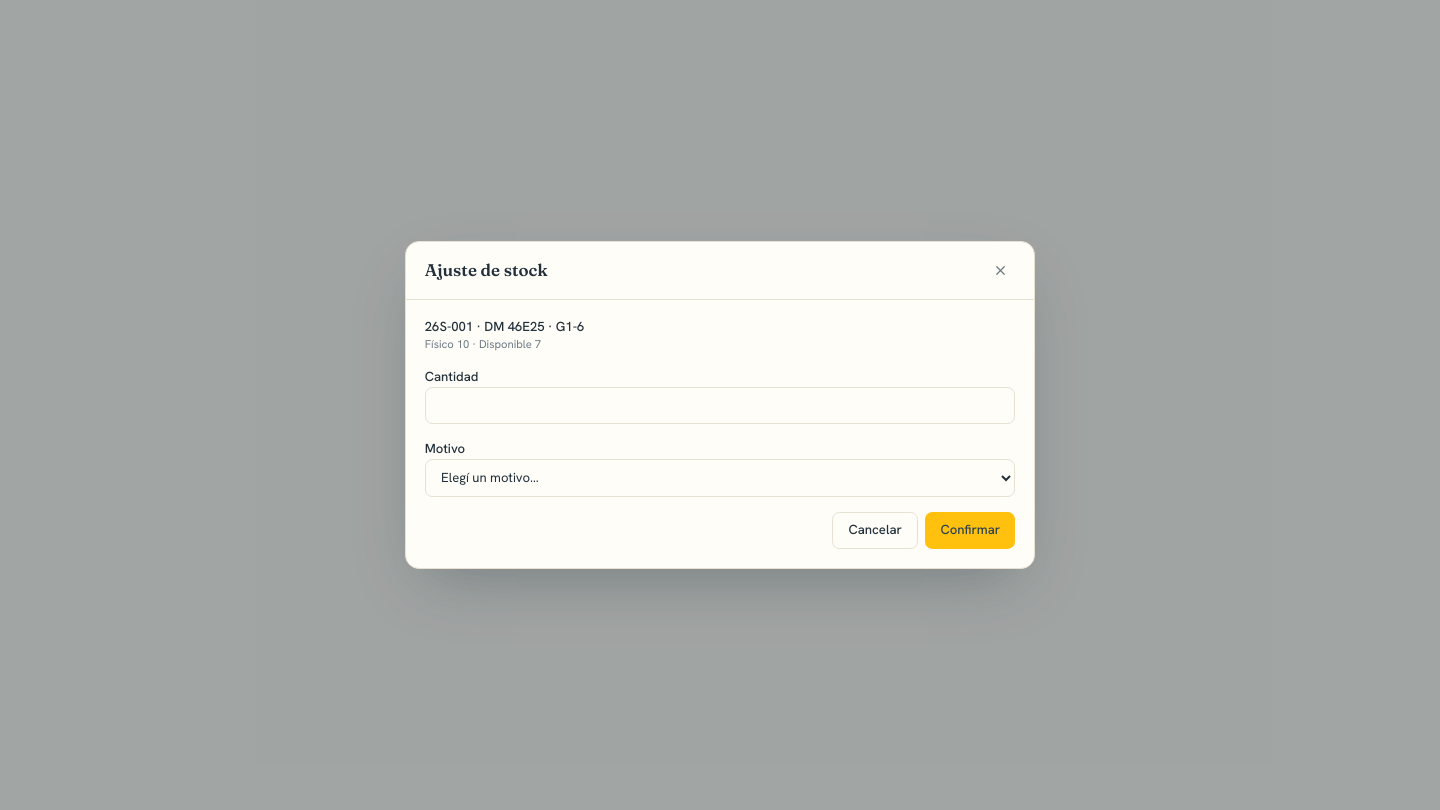
MovimientoDialog › el ajuste exige elegir un motivo de la lista cerrada
In the number field labelled "Cantidad": point(720, 406) [425, 387, 1015, 424], type "-2"
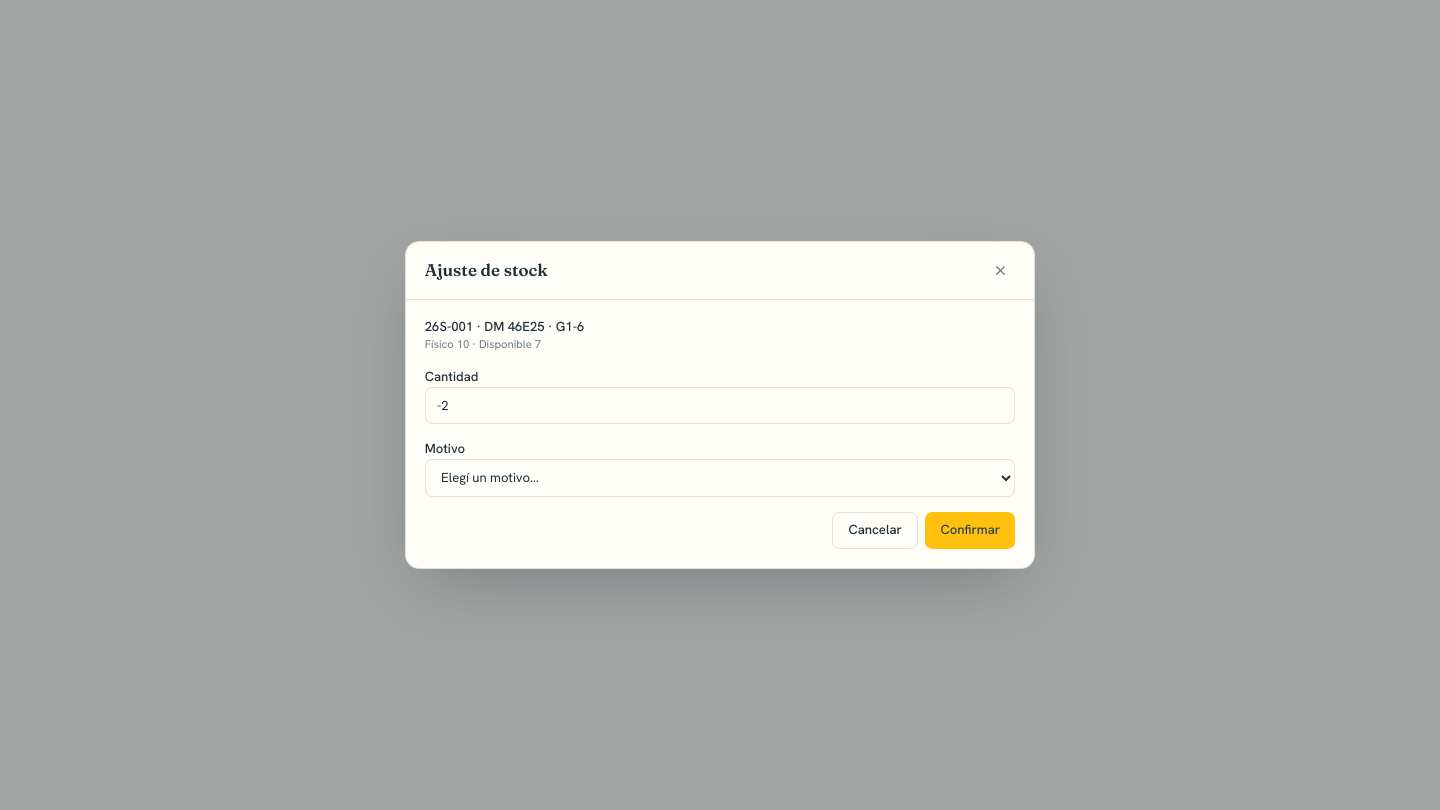
Click the button "Confirmar": point(970, 530) [926, 512, 1015, 549]
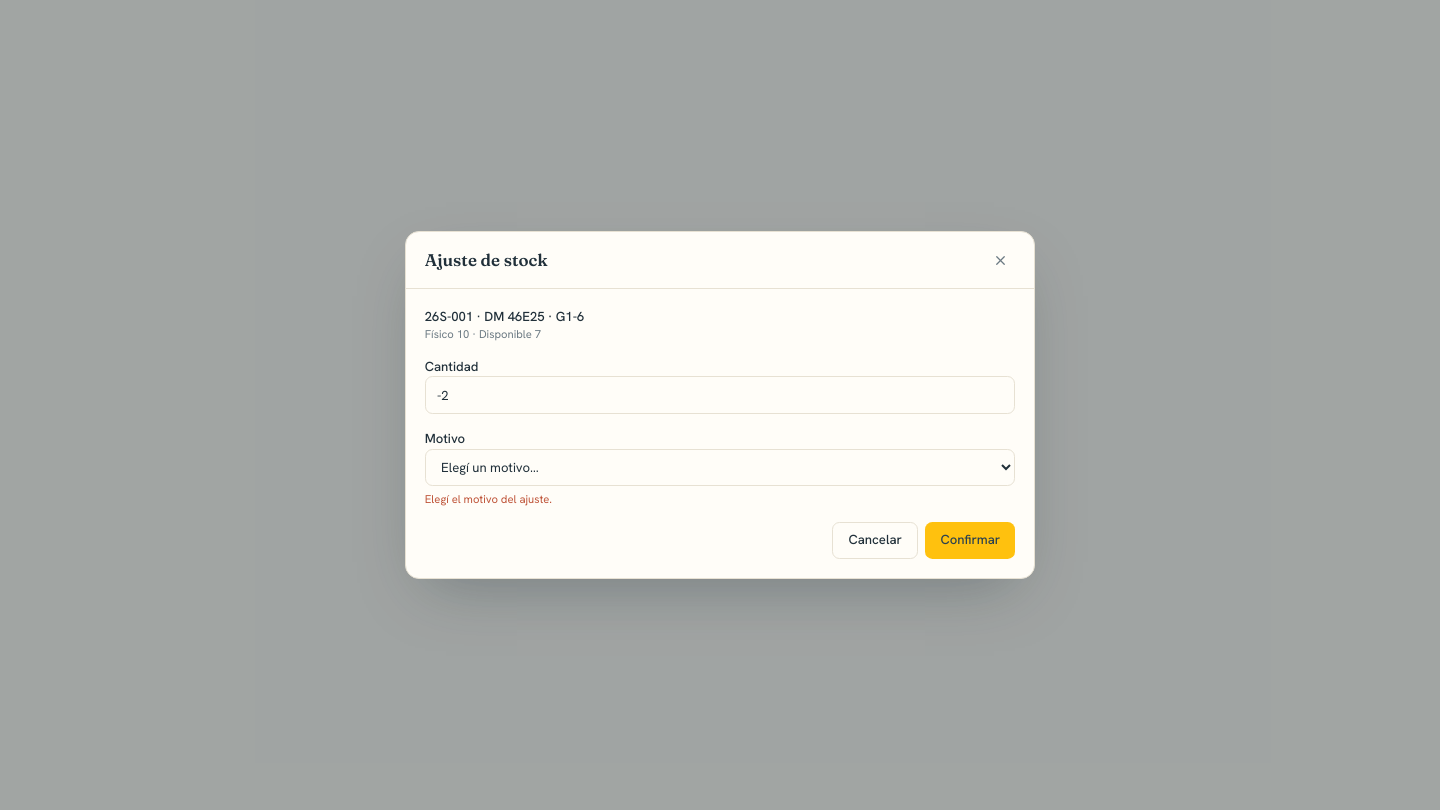
expect the text "Elegí el motivo del ajuste." is shown: met, box [425, 492, 552, 506]
